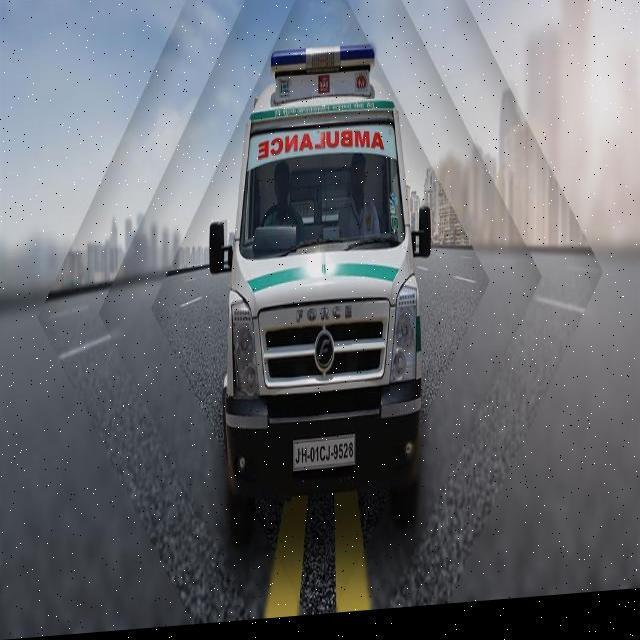Ambulance: (14, 242, 492, 638), (205, 43, 434, 512), (333, 156, 384, 248), (256, 162, 308, 238)
